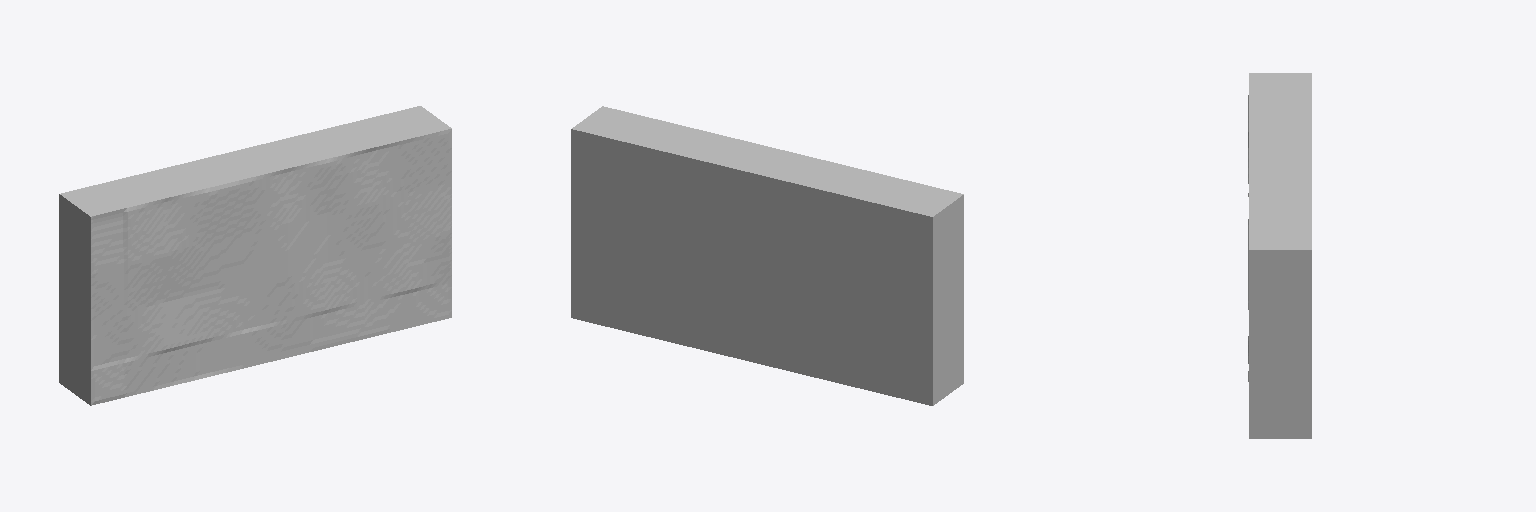
File: rectangular_prism_bumps_4_5.obj
The picture shows the model from 3 angles: view 1: azimuth 30°, elevation 25°; view 2: azimuth 150°, elevation 25°; view 3: azimuth 270°, elevation 25°; orthographic projection.
Size of the model in its own units: 10 by 5 by 1.53.